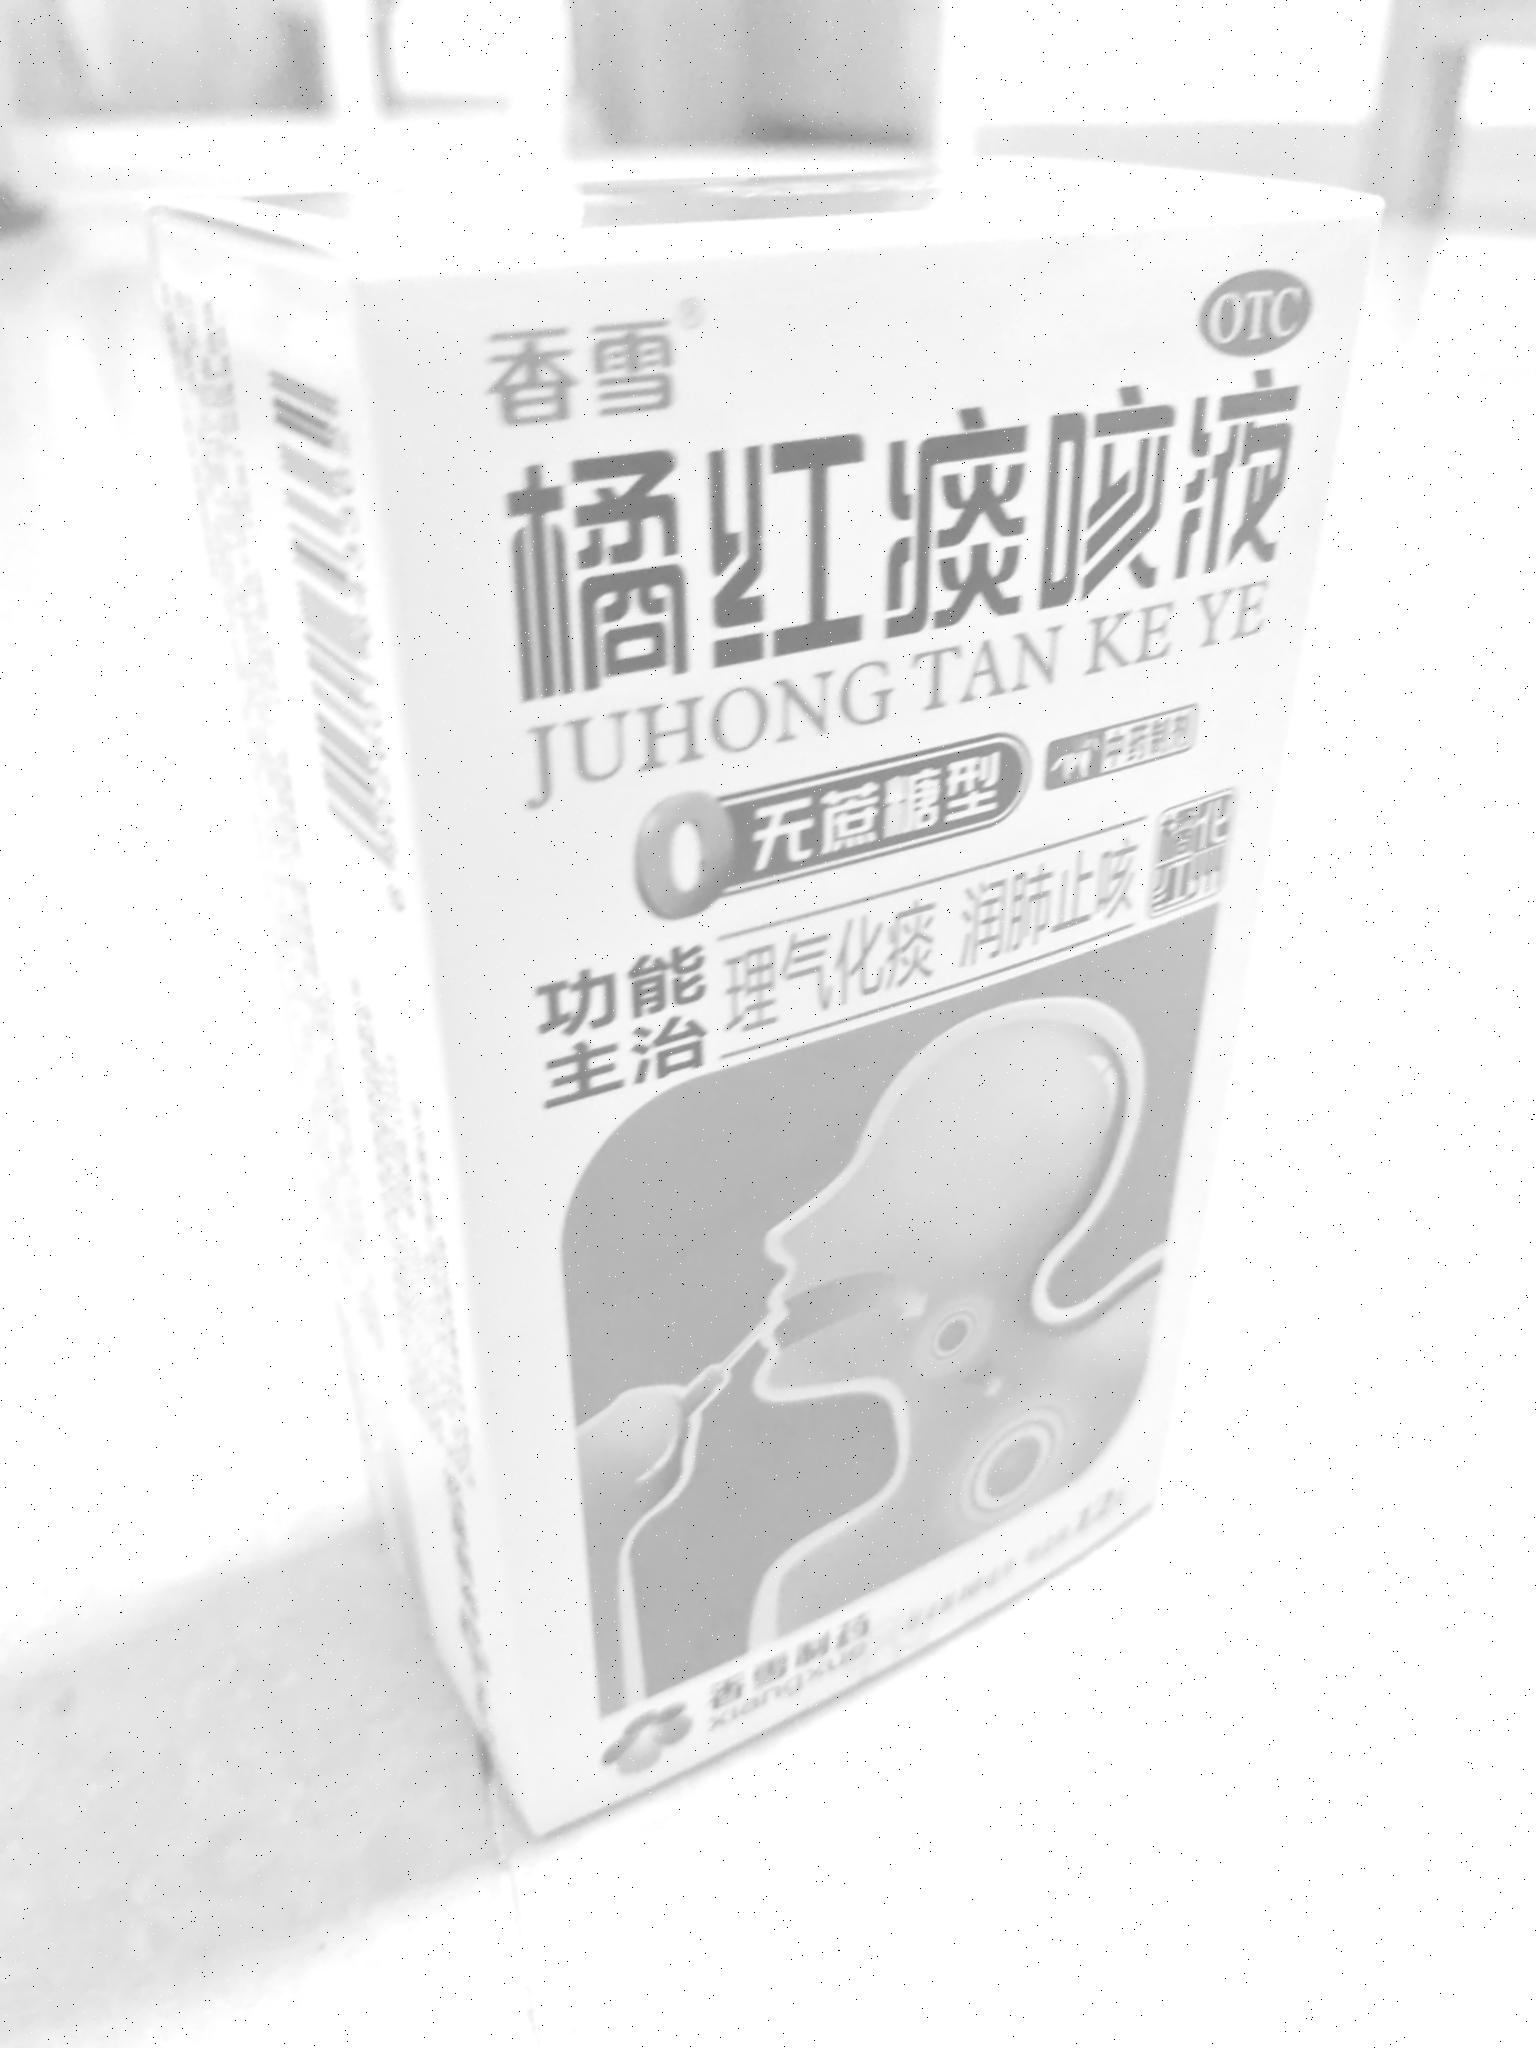Medicine1: (123, 153, 1405, 1859)
